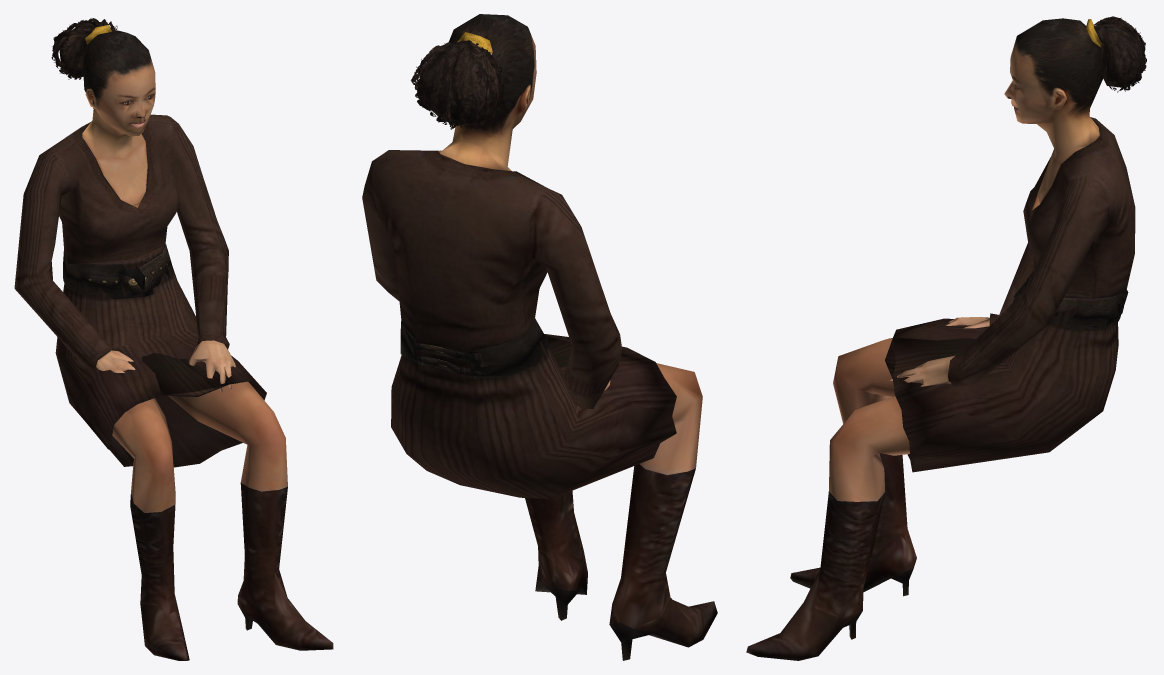
Rendered from Female_Adult_11_seated.glb.
3 views of the same model, side by side, from view 1: azimuth 30°, elevation 25°; view 2: azimuth 150°, elevation 25°; view 3: azimuth 270°, elevation 25° (orthographic). The views are drawn at different scales.
Parts seen in each view (by area): view 1: f011_hipoly_81_bones_opacity_b; view 2: f011_hipoly_81_bones_opacity_b; view 3: f011_hipoly_81_bones_opacity_b.
Boxes of the visible parts, x1=… form: f011_hipoly_81_bones_opacity_b: x1=14, y1=18, x2=333, y2=660; f011_hipoly_81_bones_opacity_b: x1=362, y1=14, x2=717, y2=660; f011_hipoly_81_bones_opacity_b: x1=746, y1=16, x2=1146, y2=660.
Size of the model in its own units: 0.5415 by 1.41 by 0.8642.
Materials: 3 (3 with a texture image).
